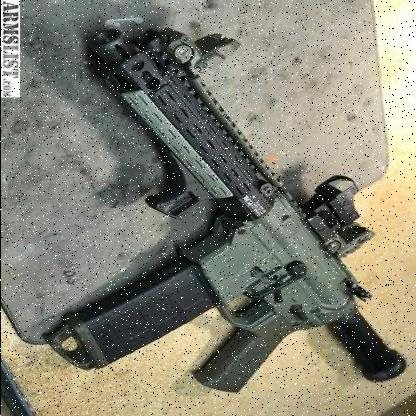rifle: (42, 19, 416, 415)
